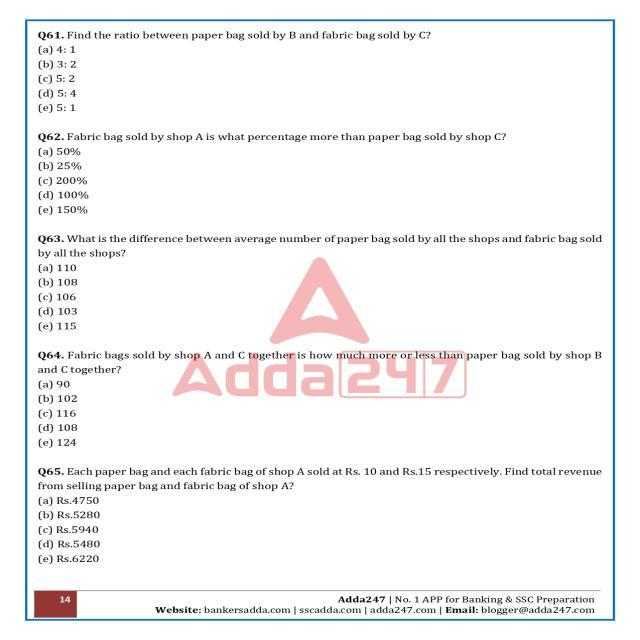Answer_Block: (34, 493, 608, 577), (34, 258, 608, 338), (34, 144, 608, 223), (34, 43, 608, 120), (34, 379, 608, 456)
Question_Answer_Block: (34, 464, 608, 577), (34, 346, 608, 456), (34, 230, 608, 338), (34, 126, 608, 223), (34, 26, 608, 120)
Question_Block: (34, 344, 608, 376), (34, 464, 608, 494), (34, 230, 608, 259), (34, 26, 608, 44), (34, 126, 608, 144)
Question_Paper_Area: (34, 24, 608, 584)
